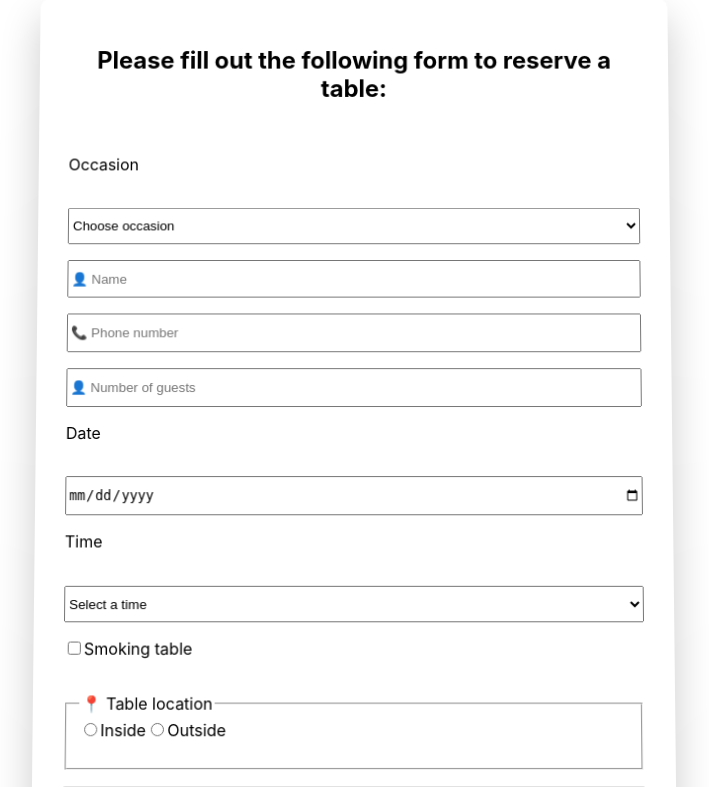
shows error when phone number is too short
In the field with placeholder "📞 Phone number": (354, 333) [67,314,641,352], type "12"
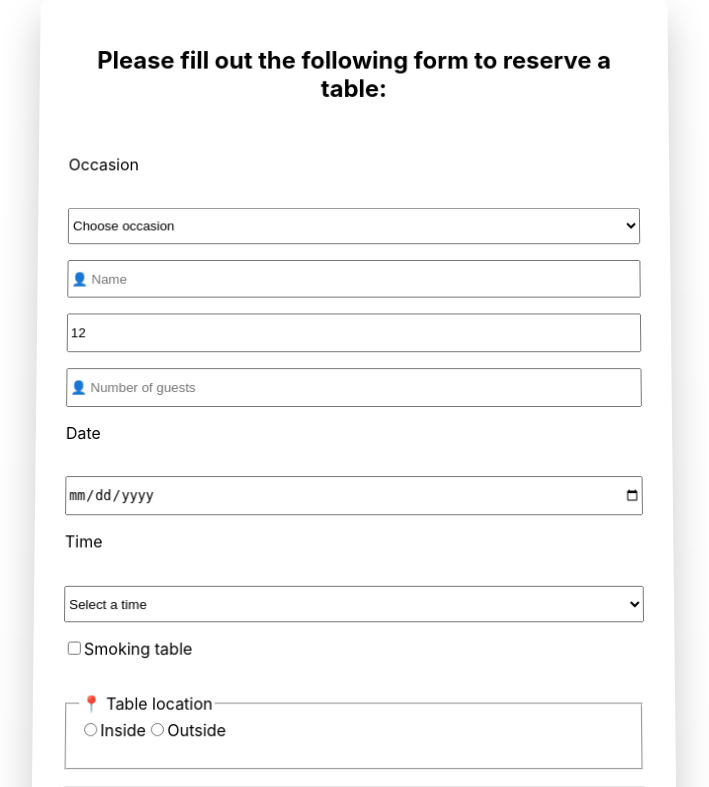
Leave the field with placeholder "📞 Phone number", box [67,314,641,352]
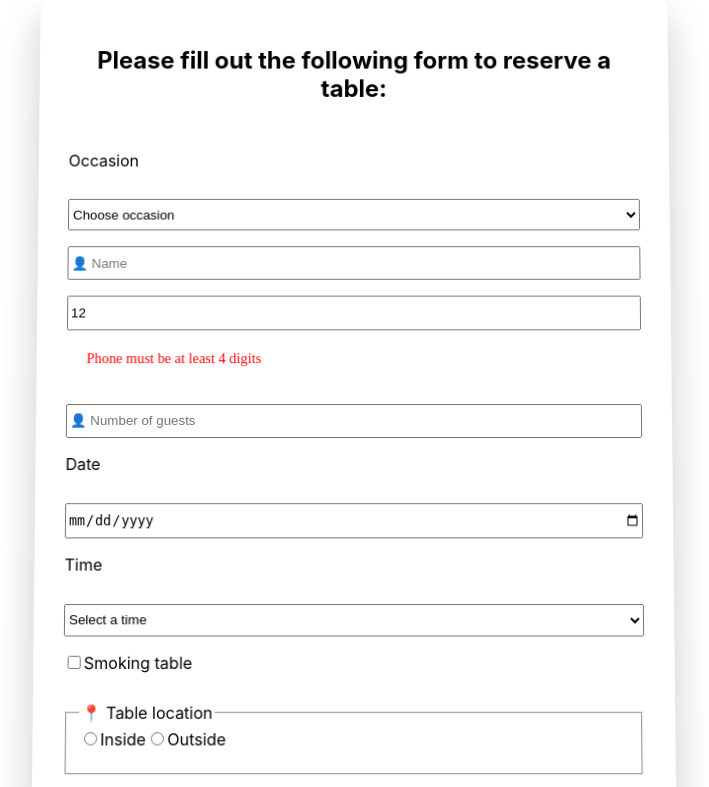
Expected: the text "Phone must be at least 4 digits" is shown, [86,350,261,366]
